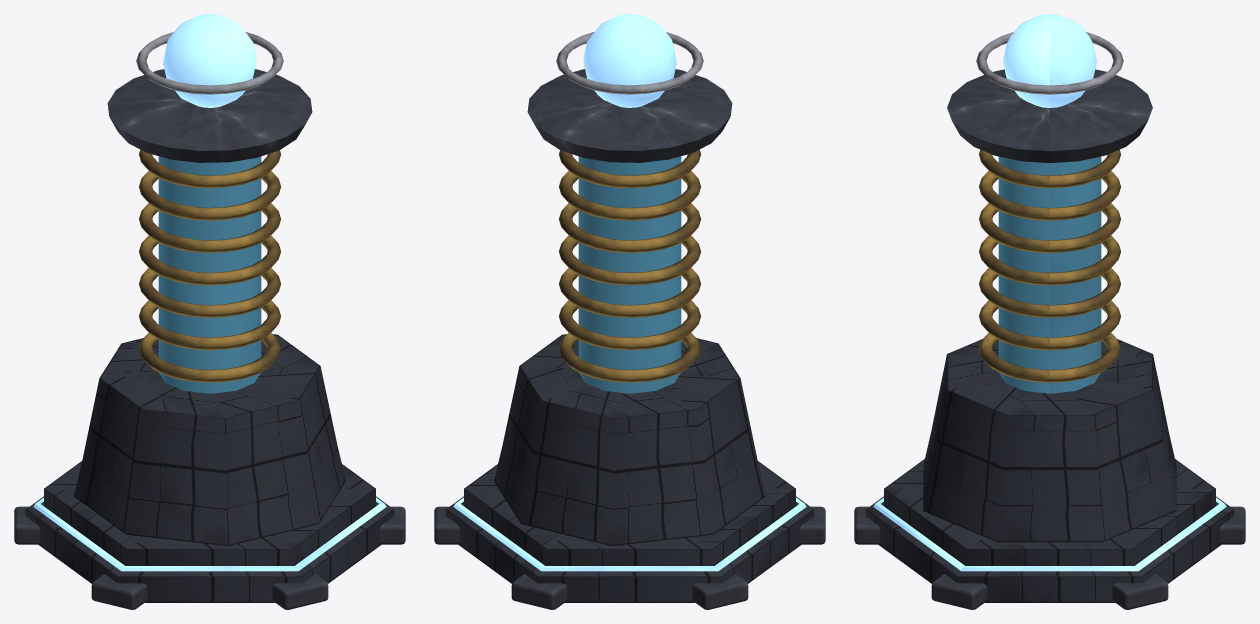
Rendered from sf_tesla.glb.
The picture shows the model from 3 angles, left to right: view 1: azimuth 30°, elevation 25°; view 2: azimuth 150°, elevation 25°; view 3: azimuth 270°, elevation 25°; orthographic projection.
Parts seen in each view (by area): view 1: Base, Turret; view 2: Base, Turret; view 3: Base, Turret.
Part boxes in pixels (x1,y1,x2,y2): Base: (14, 69, 405, 609); Turret: (136, 14, 283, 107); Base: (434, 69, 825, 609); Turret: (556, 14, 703, 107); Base: (854, 69, 1245, 609); Turret: (976, 14, 1123, 107).
Bounding box in the file's own units: 0.8425 × 1.33 × 0.9128.
6 materials, 6 textured.
